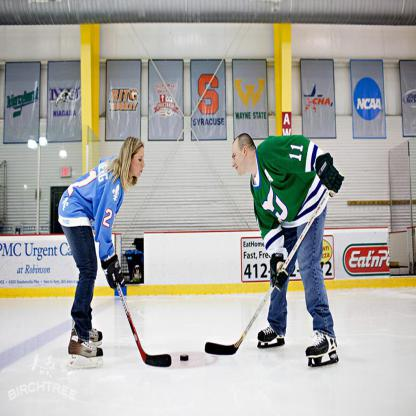face: (132, 148, 146, 178), (233, 145, 246, 176)
